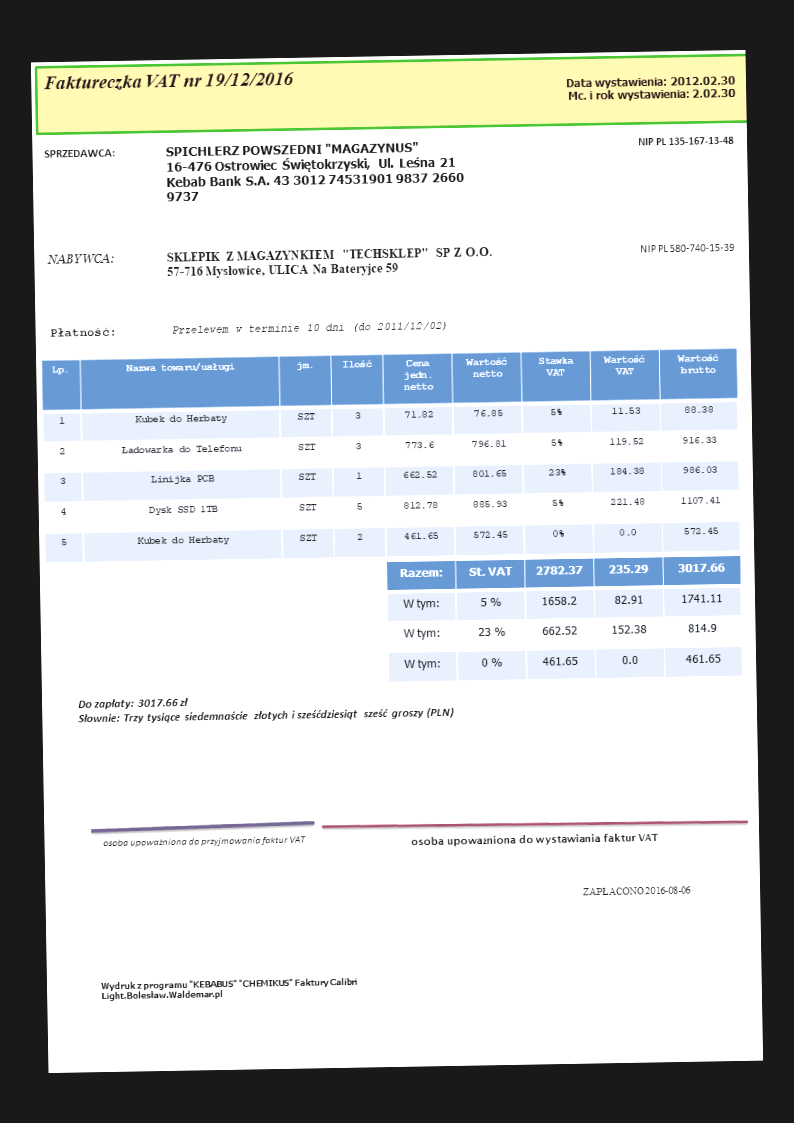Table: (40, 345, 743, 565), (385, 555, 744, 684)
TextBox: (163, 138, 467, 204), (75, 690, 456, 728), (165, 243, 493, 281), (99, 974, 361, 1002), (42, 68, 296, 95), (170, 316, 448, 339), (564, 72, 737, 103), (408, 829, 658, 850), (100, 833, 307, 852), (579, 882, 693, 899), (638, 240, 736, 257), (636, 132, 737, 148), (44, 248, 116, 267), (42, 145, 115, 161), (48, 324, 119, 339)
